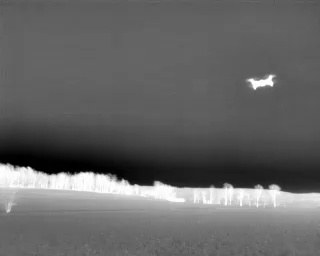DRONE: (242, 71, 280, 95)
